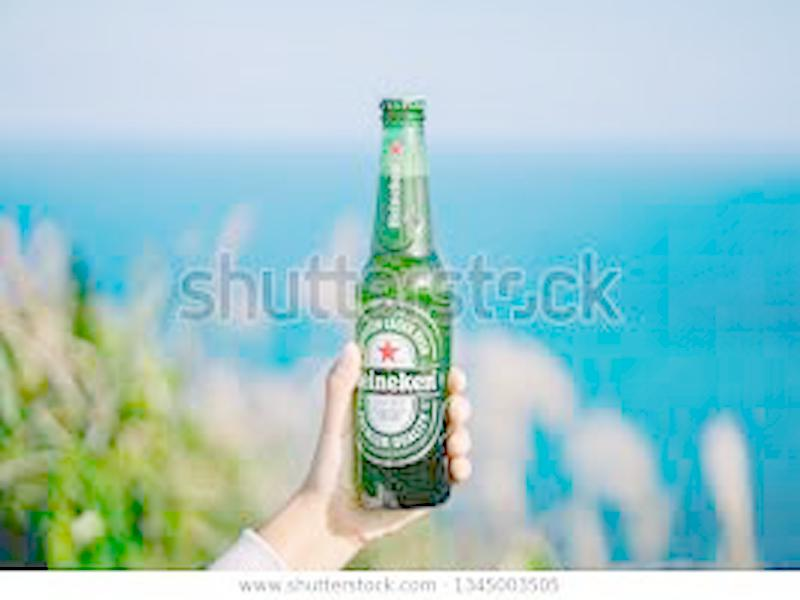Beer: (349, 96, 451, 504)
